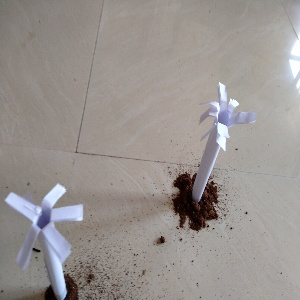weed: (10, 184, 89, 300), (190, 80, 253, 203)
